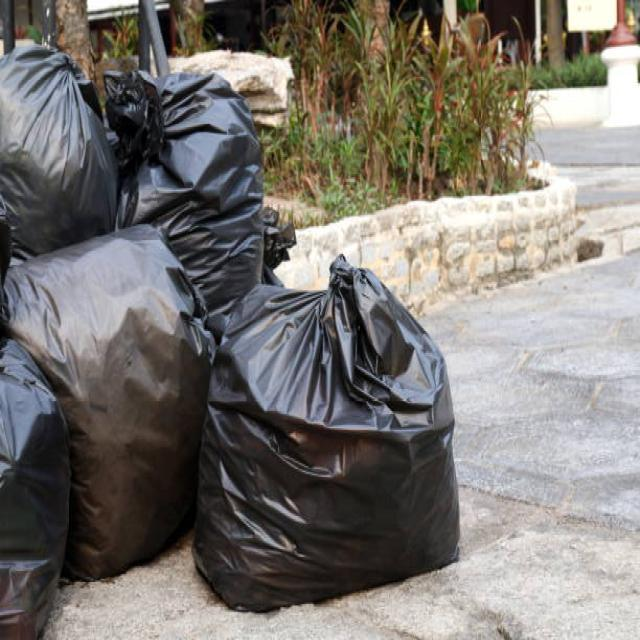Vinyl: (196, 248, 470, 620), (0, 225, 200, 640), (110, 50, 266, 312), (0, 37, 122, 255)
